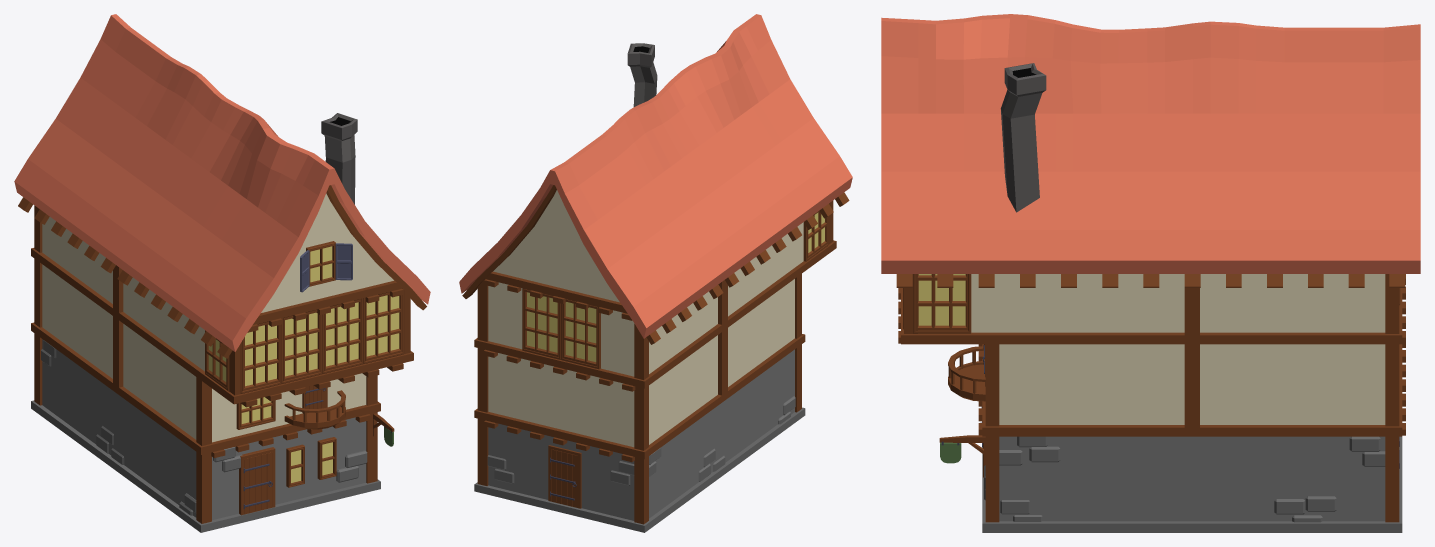
The model's file is House_City_03.fbx.
3 views of the same model, side by side, from view 1: azimuth 30°, elevation 25°; view 2: azimuth 150°, elevation 25°; view 3: azimuth 270°, elevation 25° (orthographic). The views are drawn at different scales.
Parts seen in each view (by area): view 1: Roof_Long_Point.001, Floor_0.002, Floor_Short.002, Floor_Long.001, Window_6x6.005, Window_6x6.009, Window_6x6.010, Window_6x6.004, Door_Rectangle.001, Window_4x4.008, Balcony.001, Window_6x6.003 (+4 smaller); view 2: Roof_Long_Point.001, Floor_Short.002, Floor_0.002, Floor_Long.001, Window_6x6.015, Window_6x6.013, Door_Rectangle.006, Window_6x6.014; view 3: Roof_Long_Point.001, Floor_0.002, Floor_Short.002, Floor_Long.001, Window_6x6.011, Balcony.001, Cube.001.
Part boxes in pixels (x1=…): Roof_Long_Point.001: x1=14, y1=14, x2=430, y2=358; Floor_0.002: x1=31, y1=333, x2=380, y2=532; Floor_Short.002: x1=31, y1=258, x2=380, y2=458; Floor_Long.001: x1=31, y1=205, x2=413, y2=407; Window_6x6.005: x1=281, y1=309, x2=322, y2=383; Window_6x6.009: x1=322, y1=298, x2=363, y2=373; Window_6x6.010: x1=363, y1=288, x2=404, y2=363; Window_6x6.004: x1=240, y1=318, x2=281, y2=393; Door_Rectangle.001: x1=239, y1=447, x2=275, y2=515; Window_4x4.008: x1=300, y1=241, x2=352, y2=292; Balcony.001: x1=284, y1=390, x2=345, y2=429; Window_6x6.003: x1=236, y1=397, x2=275, y2=429; Roof_Long_Point.001: x1=459, y1=14, x2=852, y2=344; Floor_Short.002: x1=474, y1=274, x2=805, y2=462; Floor_0.002: x1=474, y1=344, x2=805, y2=532; Floor_Long.001: x1=474, y1=200, x2=836, y2=391; Window_6x6.015: x1=561, y1=299, x2=600, y2=369; Window_6x6.013: x1=522, y1=288, x2=560, y2=359; Door_Rectangle.006: x1=548, y1=445, x2=581, y2=508; Window_6x6.014: x1=803, y1=211, x2=828, y2=261; Roof_Long_Point.001: x1=881, y1=14, x2=1420, y2=287; Floor_0.002: x1=982, y1=436, x2=1402, y2=532; Floor_Short.002: x1=978, y1=343, x2=1405, y2=436; Floor_Long.001: x1=898, y1=274, x2=1405, y2=344; Window_6x6.011: x1=913, y1=274, x2=971, y2=333; Balcony.001: x1=948, y1=346, x2=985, y2=401; Cube.001: x1=939, y1=435, x2=985, y2=464.
Size of the model in its own units: 713 by 1245 by 1323.
